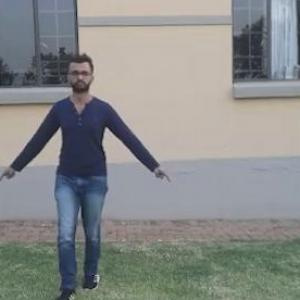land: (12, 70, 151, 263)
